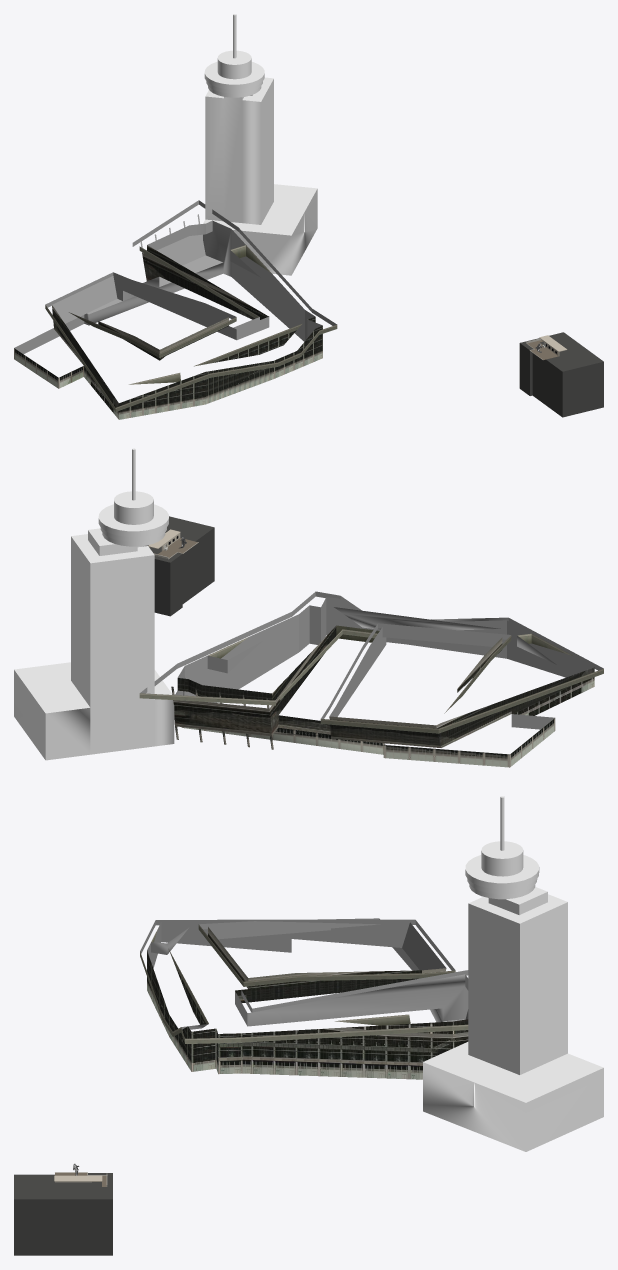
File: set8.glb
3 views of the same model, one above another, from view 1: azimuth 30°, elevation 25°; view 2: azimuth 150°, elevation 25°; view 3: azimuth 270°, elevation 25° (orthographic). The views are drawn at different scales.
Visible parts, largest first — view 1: Static; view 2: Static; view 3: Static.
Boxes of the visible parts, bbox=[...] form: Static: bbox=[14, 14, 603, 419]; Static: bbox=[14, 448, 603, 767]; Static: bbox=[14, 796, 603, 1255].
Bounding box in the file's own units: 323 × 202 × 304.
Materials: 40 (26 with a texture image).
